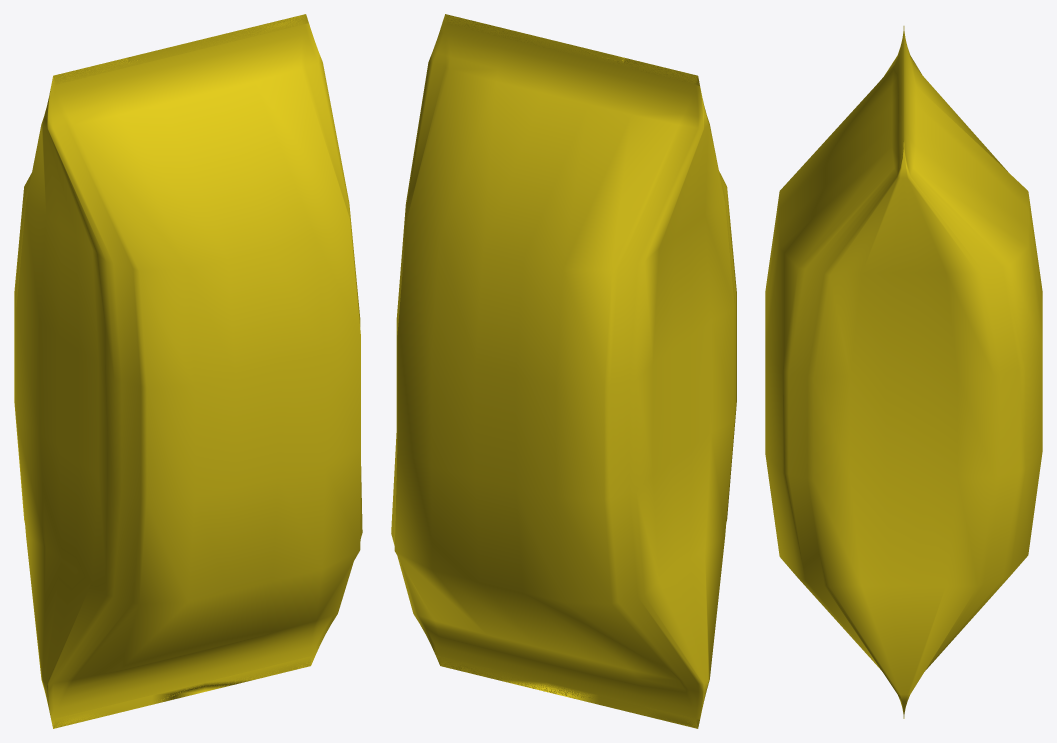
File: chips-bag-new3.glb
3 views of the same model, side by side, from view 1: azimuth 30°, elevation 25°; view 2: azimuth 150°, elevation 25°; view 3: azimuth 270°, elevation 25° (orthographic). The views are drawn at different scales.
Parts seen in each view (by area): view 1: bag; view 2: bag; view 3: bag.
Boxes of the visible parts, left/top/right/bottom form: bag: left=14, top=14, right=362, bottom=728; bag: left=391, top=14, right=736, bottom=728; bag: left=765, top=26, right=1042, bottom=718.
Bounding box in the file's own units: 1.86 × 4 × 1.68.
